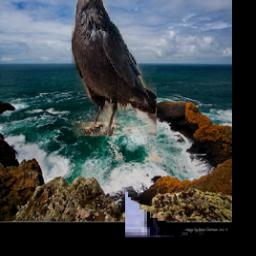Crow: (126, 0, 209, 238), (73, 0, 158, 136)
